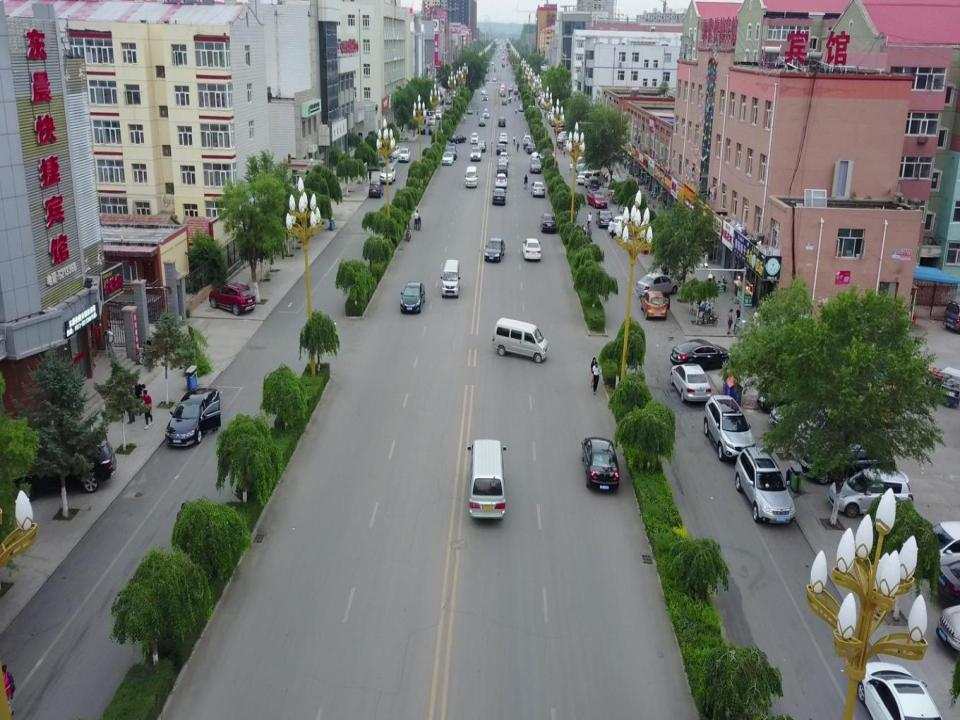car: (5, 429, 117, 502), (856, 660, 943, 720), (735, 447, 795, 524), (828, 468, 913, 518), (799, 444, 896, 485), (164, 387, 221, 446), (704, 395, 755, 460), (910, 522, 960, 577), (580, 438, 620, 491), (670, 339, 731, 369), (670, 363, 711, 403), (209, 283, 256, 316), (635, 273, 679, 296), (400, 280, 426, 314), (640, 291, 670, 319), (484, 237, 506, 262), (608, 214, 631, 234), (522, 238, 541, 261), (586, 190, 608, 209), (364, 154, 386, 172), (596, 209, 614, 228), (540, 214, 556, 234), (379, 166, 396, 184), (368, 180, 384, 198), (530, 180, 546, 197), (531, 149, 555, 160), (492, 188, 507, 205), (496, 161, 509, 177), (530, 157, 542, 174), (398, 148, 411, 163), (446, 143, 458, 159), (442, 152, 454, 166), (495, 173, 507, 187), (470, 147, 482, 161), (449, 134, 467, 143), (388, 145, 400, 158), (498, 152, 509, 164), (495, 143, 507, 154), (477, 140, 487, 152), (525, 144, 537, 154), (498, 133, 509, 143), (522, 135, 532, 145), (428, 125, 437, 136), (470, 133, 479, 143), (498, 116, 506, 127), (482, 107, 489, 119), (418, 125, 426, 135), (466, 106, 474, 115), (434, 110, 441, 120), (428, 117, 436, 125), (482, 92, 489, 101), (478, 118, 486, 125), (518, 104, 526, 111), (501, 99, 508, 105), (446, 98, 452, 104)
van: (467, 439, 506, 518), (492, 316, 548, 364), (440, 259, 461, 299), (584, 170, 604, 188), (464, 166, 478, 187), (588, 176, 600, 193), (451, 91, 457, 98)
